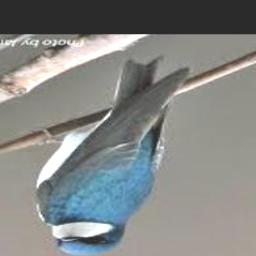Swallow: (34, 56, 193, 256)
